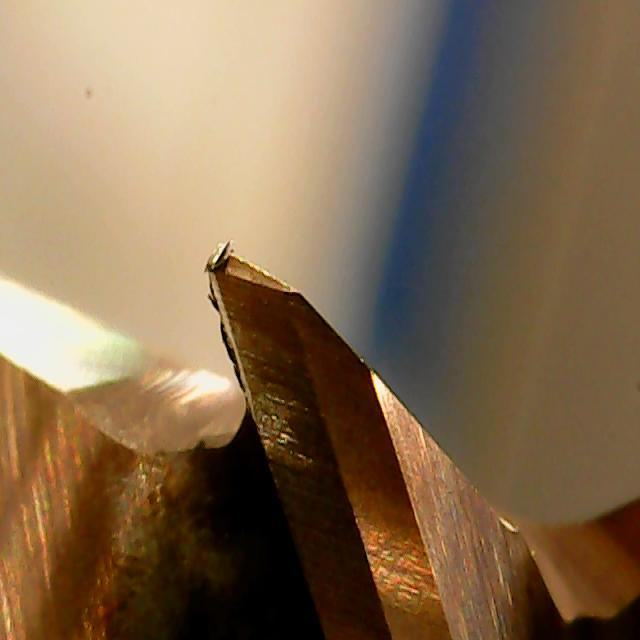Tool-wear-class-1: (186, 231, 399, 474)
